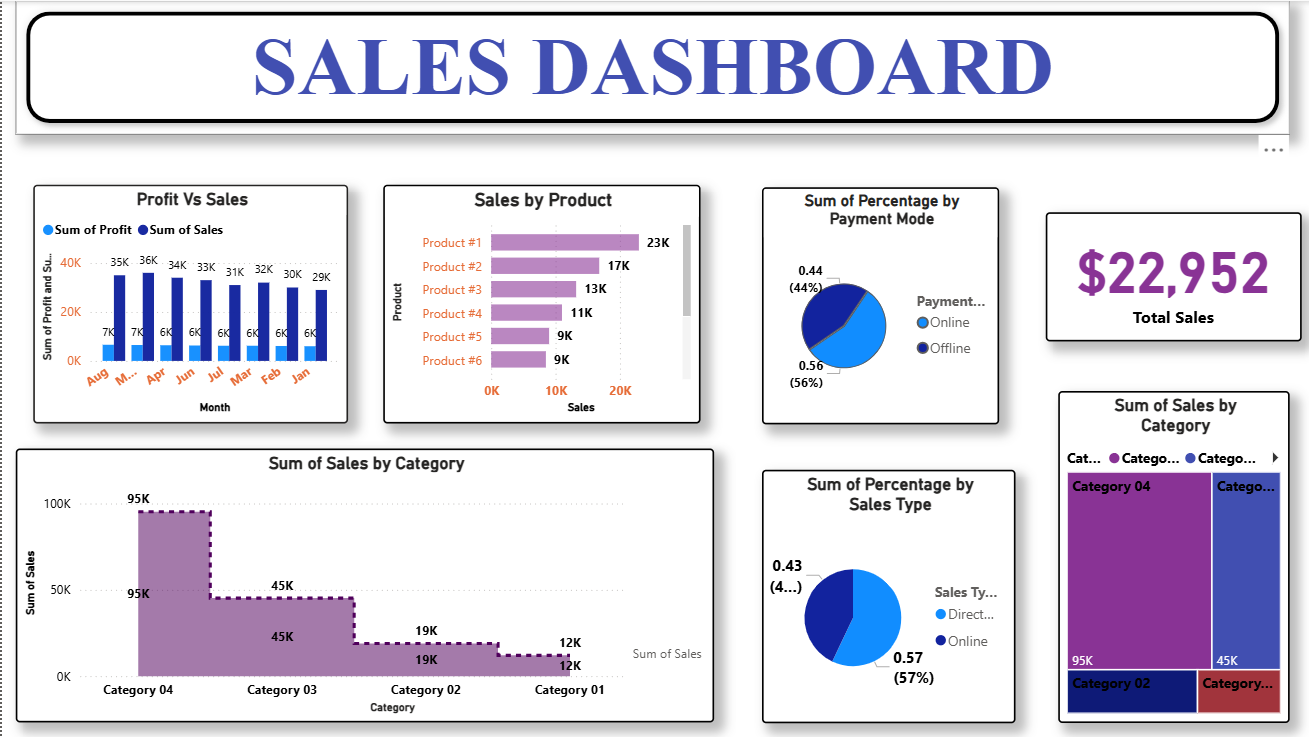

Layout of this report page (visuals, bound fields, positions):
{"tool":"powerbi","page":{"name":"Page 1","canvas":[1280,720],"ordinal":0},"visuals":[{"type":"clusteredColumnChart","title":"Profit Vs Sales","fields":{"Y":["Sum(Monthly Data.Profit)","Sum(Monthly Data.Sales)"],"Category":["Monthly Data.Month"]},"box":[30,180,308.3,233.3],"z":0},{"type":"clusteredBarChart","fields":{"Category":["Product Sales.Product"],"Y":["Sum(Product Sales.Sales)"]},"box":[373.3,180,310,233.3],"z":1000},{"type":"pieChart","fields":{"Y":["Sum(Sales Type.Percentage)"],"Category":["Sales Type.Sales Type"]},"box":[743.3,458.3,248.3,248.3],"z":2000},{"type":"pieChart","fields":{"Category":["Payment Mode.Payment Mode"],"Y":["Sum(Payment Mode.Percentage)"]},"box":[743.3,181.7,231.7,231.7],"z":3000},{"type":"treemap","fields":{"Group":["Category Breakdown.Category"],"Values":["Sum(Category Breakdown.Sales)"]},"box":[1033.3,381.7,226.7,325],"z":4000},{"type":"card","fields":{"Values":["Min(Top Product.Total Sales)"]},"box":[1021.7,206.7,250,126.7],"z":6000},{"type":"textbox","box":[13.3,0,996.7,65],"z":8004},{"type":"shape","box":[13.3,0,1246.7,130],"z":8005},{"type":"stackedAreaChart","fields":{"Category":["Category Breakdown.Category"],"Y":["Sum(Category Breakdown.Sales)"]},"box":[13.3,438.3,683.3,268.3],"z":8006}]}

Visuals, with their boxes in screenshot pixels (x1, y1, x2, y2), scaled from the page's 1280x720 canvas onto the 1309x737 screenshot:
"Profit Vs Sales" clusteredColumnChart: detection(31, 184, 346, 423)
clusteredBarChart - Product Sales.Product x Sum(Product Sales.Sales): detection(382, 184, 699, 423)
pieChart - Sum(Sales Type.Percentage) x Sales Type.Sales Type: detection(760, 469, 1014, 723)
pieChart - Payment Mode.Payment Mode x Sum(Payment Mode.Percentage): detection(760, 186, 997, 423)
treemap - Category Breakdown.Category x Sum(Category Breakdown.Sales): detection(1057, 391, 1289, 723)
card - Min(Top Product.Total Sales): detection(1045, 212, 1301, 341)
textbox: detection(14, 0, 1033, 67)
shape: detection(14, 0, 1289, 133)
stackedAreaChart - Category Breakdown.Category x Sum(Category Breakdown.Sales): detection(14, 449, 712, 723)
